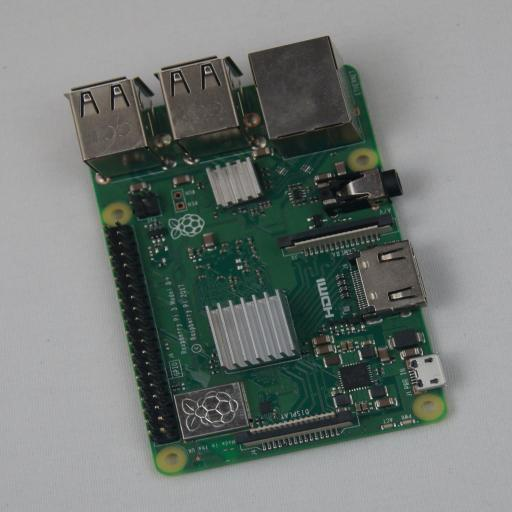Raspberry Pi 3 B-: (64, 36, 447, 475)
